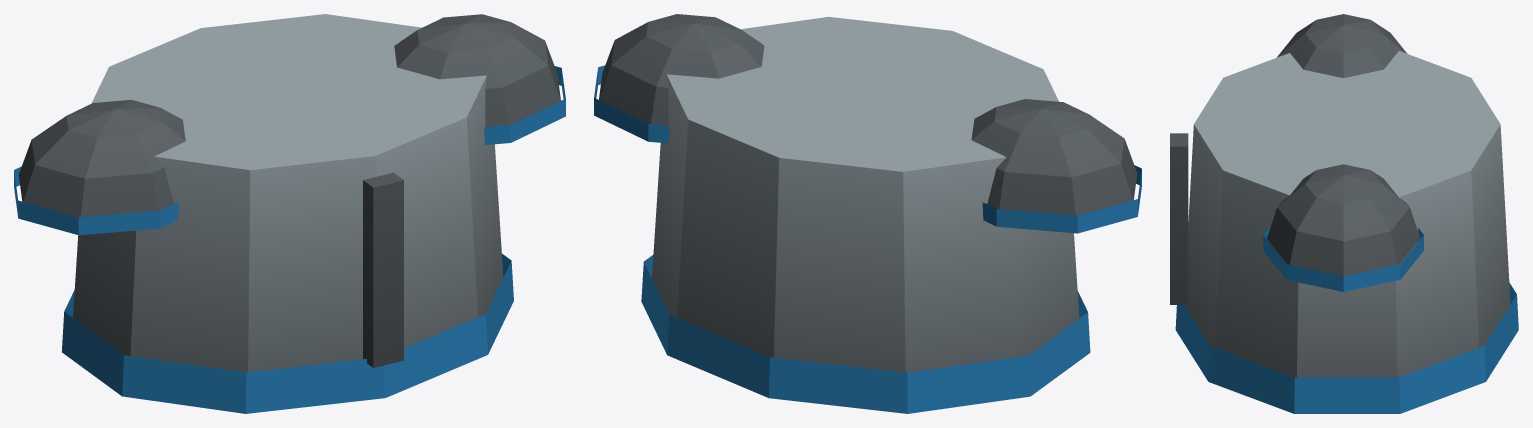
Rendered from berserker_guard_chest_t2.glb.
The picture shows the model from 3 angles, left to right: view 1: azimuth 30°, elevation 25°; view 2: azimuth 150°, elevation 25°; view 3: azimuth 270°, elevation 25°; orthographic projection. The views are drawn at different scales.
Visible parts, largest first — view 1: berserker_guard_chest_t2__chest; view 2: berserker_guard_chest_t2__chest; view 3: berserker_guard_chest_t2__chest.
Boxes of the visible parts, x1=… form: berserker_guard_chest_t2__chest: x1=14, y1=14, x2=565, y2=413; berserker_guard_chest_t2__chest: x1=594, y1=14, x2=1141, y2=413; berserker_guard_chest_t2__chest: x1=1170, y1=14, x2=1518, y2=413.
Size of the model in its own units: 3.23 by 1.49 by 2.05.
1 material, 1 textured.
